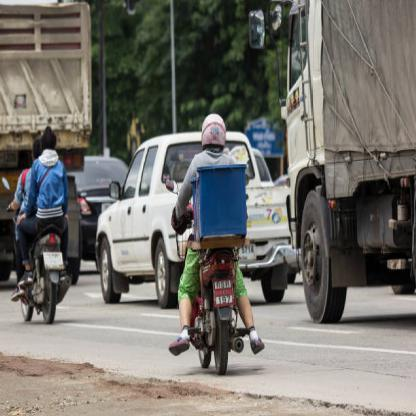Motorcycle: (164, 181, 262, 398), (5, 183, 71, 335)
